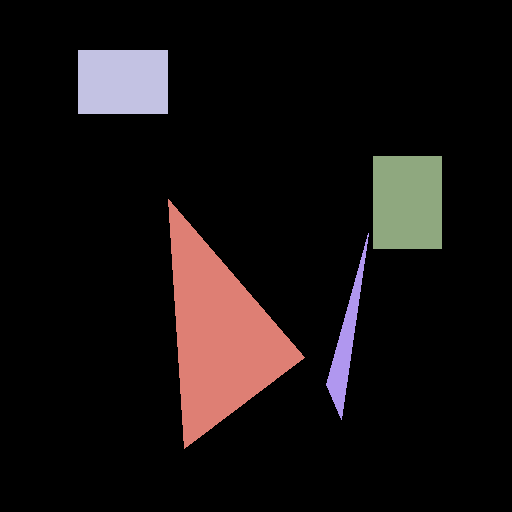rectangle: (373, 156, 441, 248), (78, 50, 167, 113)
triangle: (168, 199, 304, 448), (326, 233, 368, 419)
